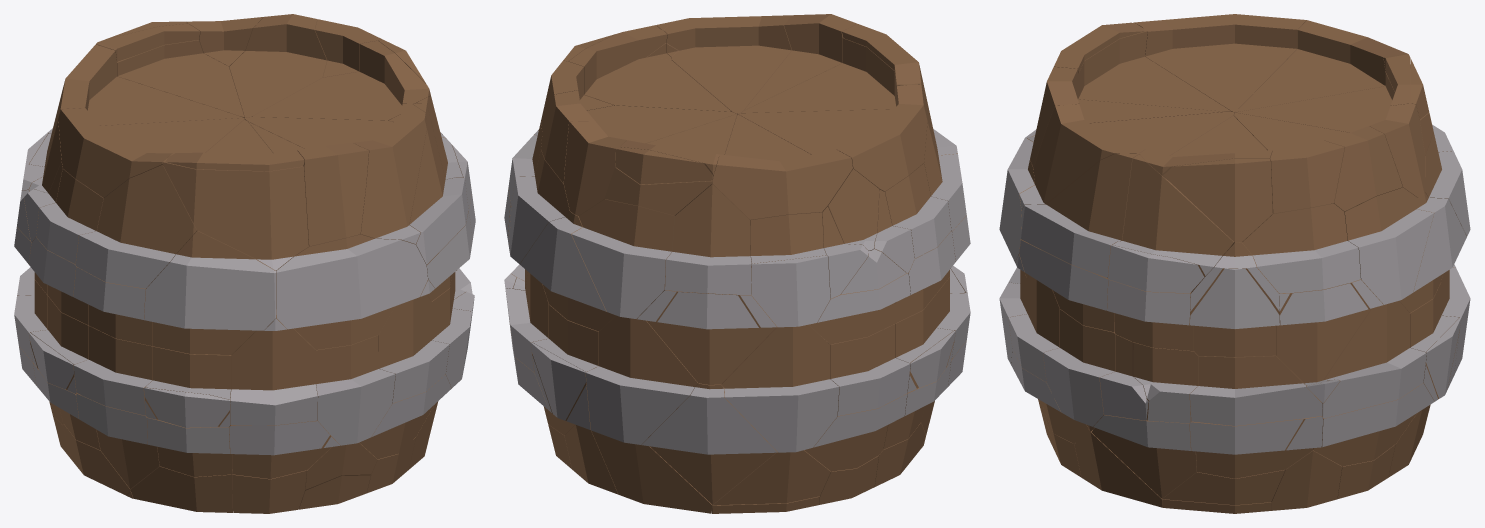
The model's file is Barrel_Frac.fbx.
3 renders of one model, left to right at view 1: azimuth 30°, elevation 25°; view 2: azimuth 150°, elevation 25°; view 3: azimuth 270°, elevation 25°, orthographic.
Visible parts, largest first — view 1: Cylinder.001_cell.033, Cylinder.001_cell.089, Cylinder.001_cell.056, Cylinder.001_cell.065, Cylinder.001_cell.004, Cylinder.001_cell.062, Cylinder.001_cell.041, Cylinder.001_cell.059, Cylinder.001_cell.031, Cylinder.001_cell.050, Cylinder.001_cell.049, Cylinder.001_cell.076 (+35 smaller); view 2: Cylinder.001_cell.013, Cylinder.001_cell.086, Cylinder.001_cell.062, Cylinder.001_cell.050, Cylinder.001_cell.073, Cylinder.001_cell.054, Cylinder.001_cell.065, Cylinder.001_cell.059, Cylinder.001_cell.020, Cylinder.001_cell.056, Cylinder.001_cell.031, Cylinder.001_cell.040 (+38 smaller); view 3: Cylinder.001_cell.062, Cylinder.001_cell.065, Cylinder.001_cell.029, Cylinder.001_cell.066, Cylinder.001_cell.050, Cylinder.001_cell.019, Cylinder.001_cell.052, Cylinder.001_cell.035, Cylinder.001_cell.074, Cylinder.001_cell.031, Cylinder.001_cell.056, Cylinder.001_cell.015 (+38 smaller).
Part boxes in pixels (bbox=[...]): Cylinder.001_cell.033: bbox=[276, 234, 427, 349]; Cylinder.001_cell.089: bbox=[144, 230, 275, 354]; Cylinder.001_cell.056: bbox=[162, 119, 308, 270]; Cylinder.001_cell.065: bbox=[245, 104, 426, 244]; Cylinder.001_cell.004: bbox=[75, 164, 196, 288]; Cylinder.001_cell.062: bbox=[58, 108, 244, 197]; Cylinder.001_cell.041: bbox=[230, 309, 317, 425]; Cylinder.001_cell.059: bbox=[252, 40, 431, 120]; Cylinder.001_cell.031: bbox=[229, 14, 327, 119]; Cylinder.001_cell.050: bbox=[52, 44, 243, 134]; Cylinder.001_cell.049: bbox=[316, 335, 395, 445]; Cylinder.001_cell.076: bbox=[248, 122, 368, 246]; Cylinder.001_cell.013: bbox=[721, 325, 839, 452]; Cylinder.001_cell.086: bbox=[586, 315, 698, 444]; Cylinder.001_cell.062: bbox=[738, 85, 927, 191]; Cylinder.001_cell.050: bbox=[712, 114, 852, 220]; Cylinder.001_cell.073: bbox=[571, 199, 674, 318]; Cylinder.001_cell.054: bbox=[641, 383, 777, 504]; Cylinder.001_cell.065: bbox=[663, 15, 791, 114]; Cylinder.001_cell.059: bbox=[568, 28, 731, 111]; Cylinder.001_cell.020: bbox=[665, 184, 751, 294]; Cylinder.001_cell.056: bbox=[741, 38, 930, 116]; Cylinder.001_cell.031: bbox=[541, 90, 736, 183]; Cylinder.001_cell.040: bbox=[637, 290, 776, 384]; Cylinder.001_cell.062: bbox=[1134, 14, 1306, 112]; Cylinder.001_cell.065: bbox=[1019, 104, 1234, 210]; Cylinder.001_cell.029: bbox=[1021, 153, 1139, 277]; Cylinder.001_cell.066: bbox=[1242, 203, 1360, 293]; Cylinder.001_cell.050: bbox=[1236, 20, 1410, 112]; Cylinder.001_cell.019: bbox=[1189, 355, 1322, 425]; Cylinder.001_cell.052: bbox=[1303, 301, 1426, 418]; Cylinder.001_cell.035: bbox=[1112, 154, 1233, 276]; Cylinder.001_cell.074: bbox=[1344, 187, 1433, 304]; Cylinder.001_cell.031: bbox=[1234, 112, 1402, 211]; Cylinder.001_cell.056: bbox=[1028, 22, 1231, 141]; Cylinder.001_cell.015: bbox=[1163, 158, 1272, 242].
Size of the model in its own units: 250 by 207 by 250.
